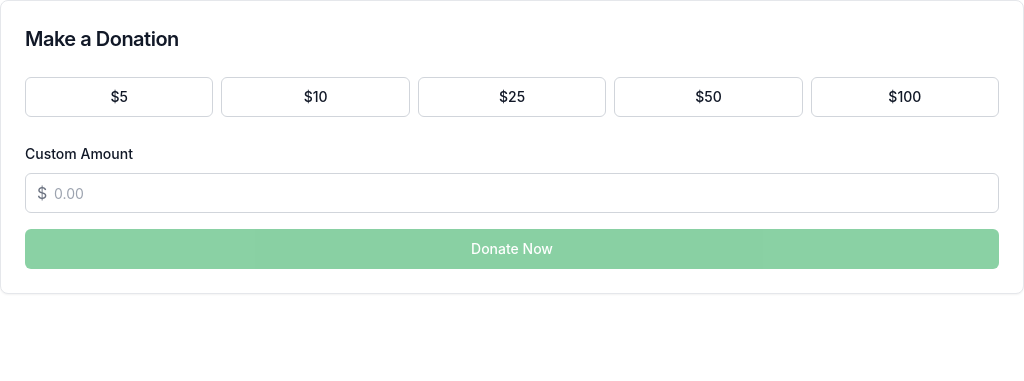
Scenario: DonationForm › should show error when donation fails
This screenshot has width=1024, height=381.
Step 1. Click the button "$25" → x=512, y=97, box [418,77,606,117]
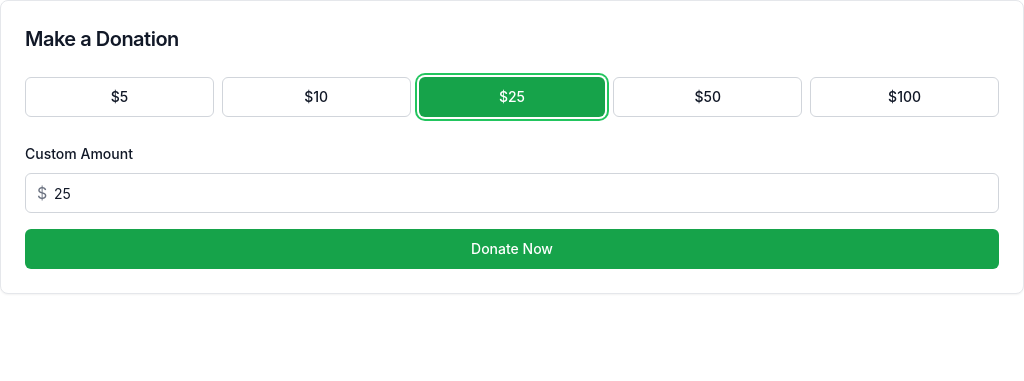
Step 2. Click the button "Donate Now" → x=512, y=249, box [25,229,999,269]
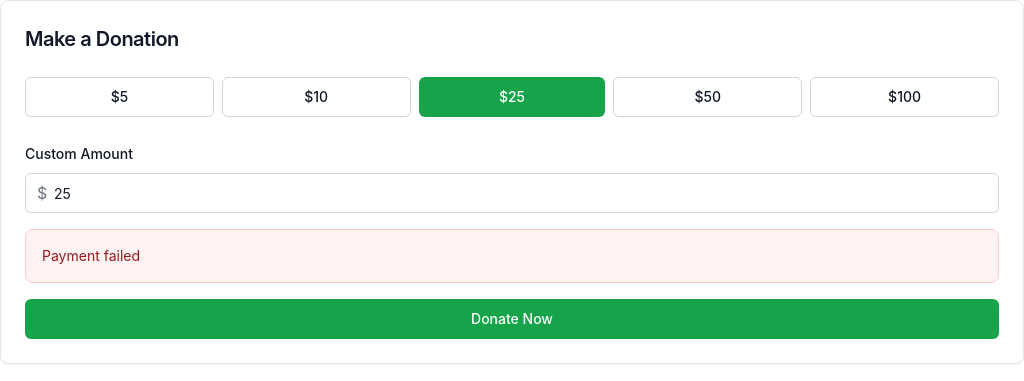
Expected: the text "Payment failed" is shown, [42,247,140,264]
